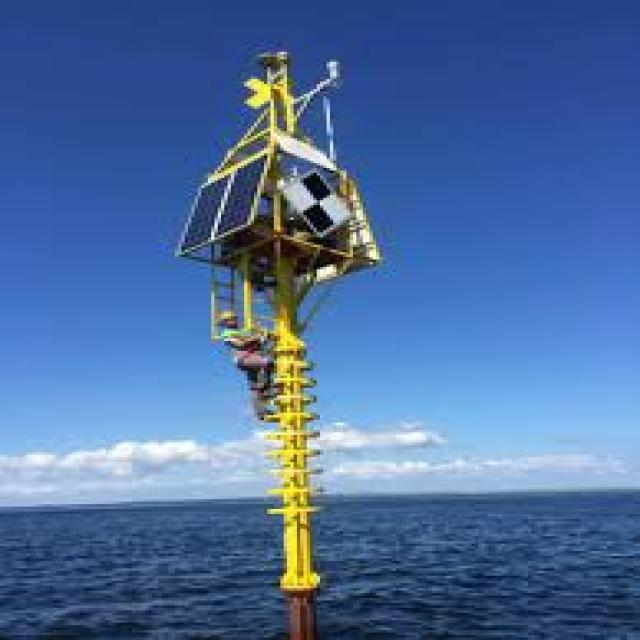buoy: (153, 21, 395, 606)
